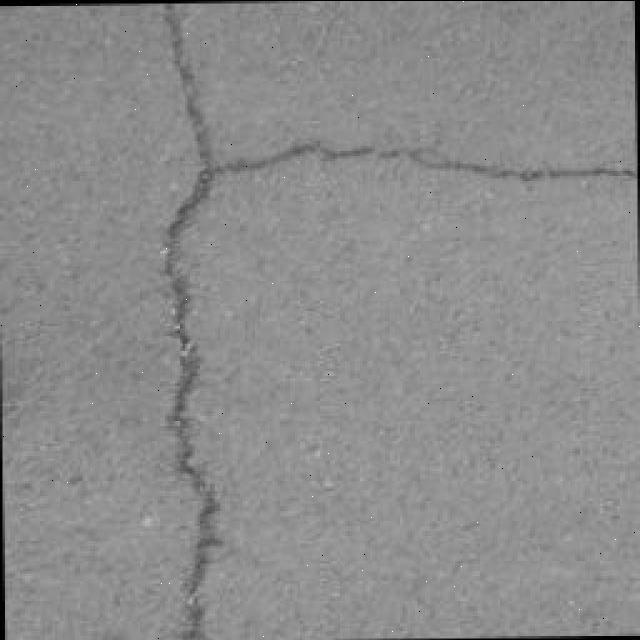crack: (155, 4, 636, 637)
